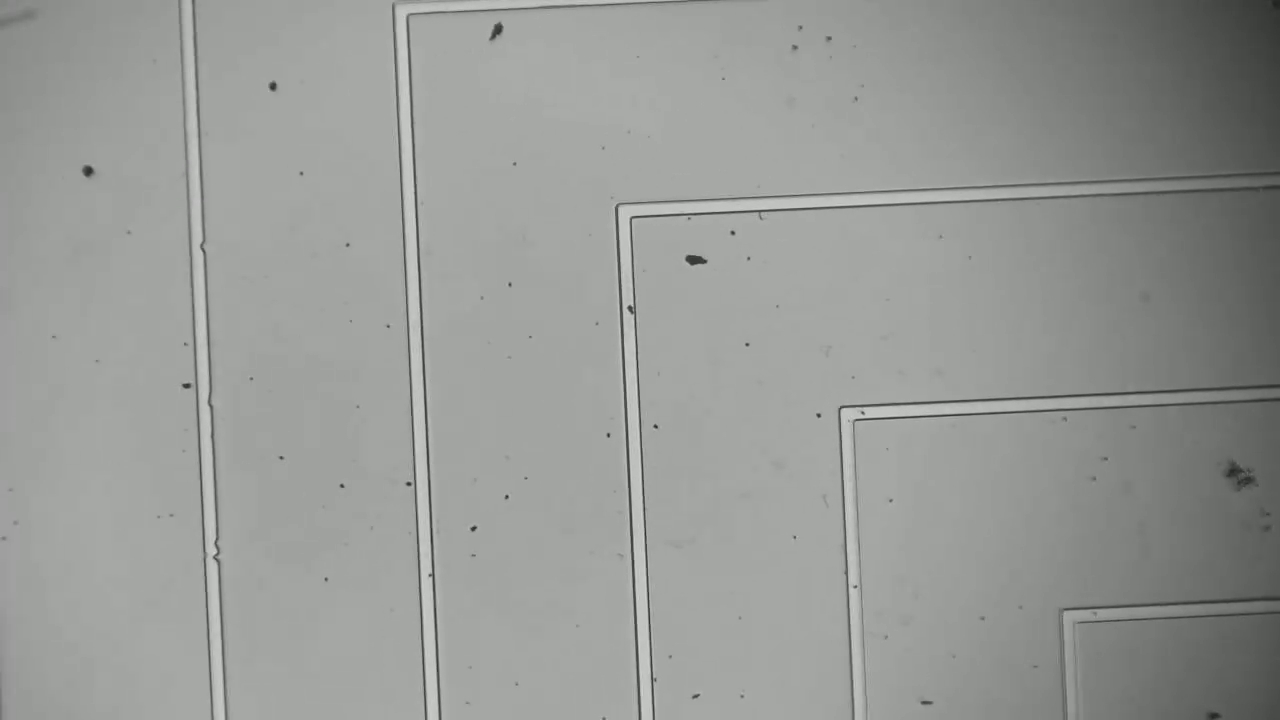edge_bite: (187, 383, 224, 413), (182, 233, 212, 261), (194, 543, 227, 568)
stains_enbedded: (614, 294, 642, 322)
